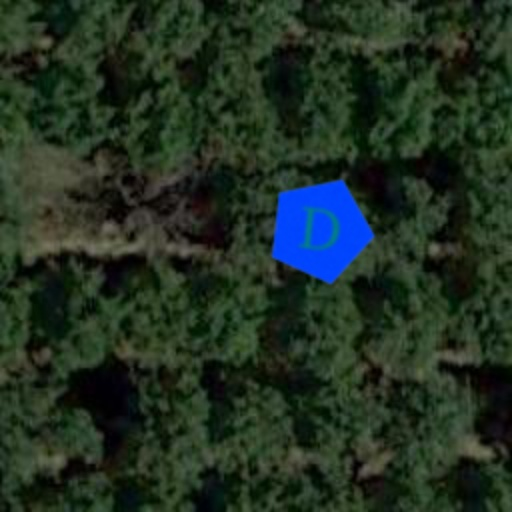pentagon: (258, 168, 382, 292)
